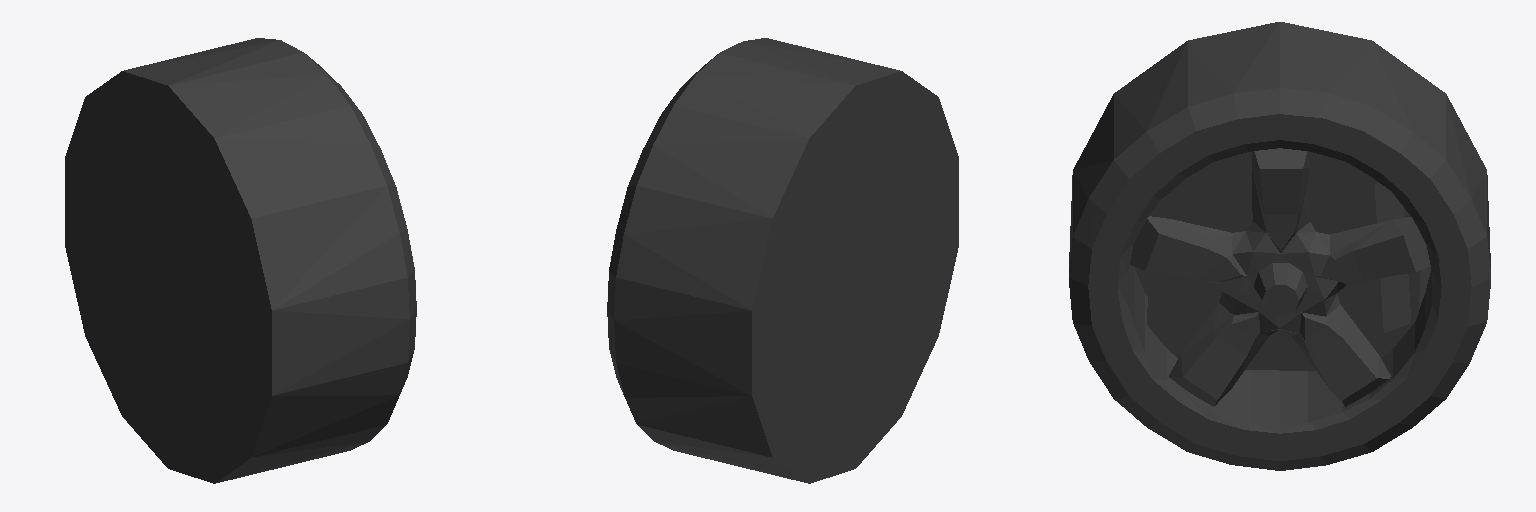
3 renders of one model, left to right at view 1: azimuth 30°, elevation 25°; view 2: azimuth 150°, elevation 25°; view 3: azimuth 270°, elevation 25°, orthographic.
Parts seen in each view (by area): view 1: WhFL02; view 2: WhFL02; view 3: WhFL02, BrFL02.
Boxes of the visible parts, x1=… form: WhFL02: x1=65, y1=38, x2=416, y2=483; WhFL02: x1=607, y1=38, x2=958, y2=483; WhFL02: x1=1069, y1=22, x2=1490, y2=470; BrFL02: x1=1350, y1=183, x2=1430, y2=332.
Size of the model in its own units: 0.3074 by 0.6416 by 0.6416.